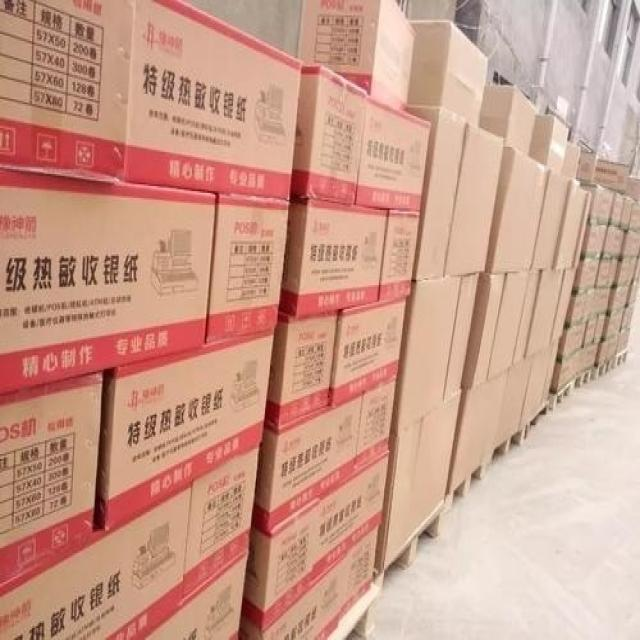box: (0, 166, 218, 398), (97, 331, 275, 531), (123, 2, 302, 200), (0, 483, 192, 640), (242, 447, 392, 628), (0, 0, 136, 184), (1, 372, 104, 585), (374, 389, 461, 577), (241, 527, 379, 640), (252, 398, 364, 534), (298, 0, 417, 113), (205, 191, 291, 345), (280, 200, 388, 317), (184, 444, 260, 596), (390, 276, 461, 435), (291, 65, 366, 208), (410, 104, 466, 280), (443, 121, 506, 276), (142, 553, 248, 638), (264, 307, 339, 425), (329, 300, 408, 410), (410, 20, 490, 126), (357, 99, 430, 210), (486, 143, 548, 273), (447, 369, 506, 498), (462, 271, 506, 387), (488, 268, 531, 379), (445, 275, 480, 403), (479, 84, 536, 155), (531, 171, 571, 270), (379, 210, 421, 304), (524, 265, 564, 360), (355, 381, 397, 468), (495, 357, 534, 445), (553, 183, 589, 271), (518, 341, 552, 432), (512, 270, 543, 367), (531, 113, 571, 174), (550, 266, 579, 346), (580, 183, 614, 227), (552, 350, 582, 394), (543, 338, 563, 403), (594, 159, 631, 193), (573, 193, 589, 266), (564, 294, 594, 326), (582, 314, 607, 352), (573, 259, 600, 294), (580, 225, 607, 259), (558, 326, 585, 358), (562, 143, 584, 179), (596, 258, 622, 287), (613, 259, 637, 290), (595, 336, 620, 365), (604, 309, 625, 341), (577, 154, 600, 183), (609, 191, 627, 225), (589, 292, 611, 319), (603, 229, 625, 256), (581, 341, 600, 372), (607, 288, 630, 311), (620, 195, 635, 229), (622, 230, 640, 256), (621, 305, 640, 329), (628, 201, 640, 232), (625, 283, 640, 305), (616, 328, 628, 353), (627, 177, 640, 200), (634, 259, 640, 282)
